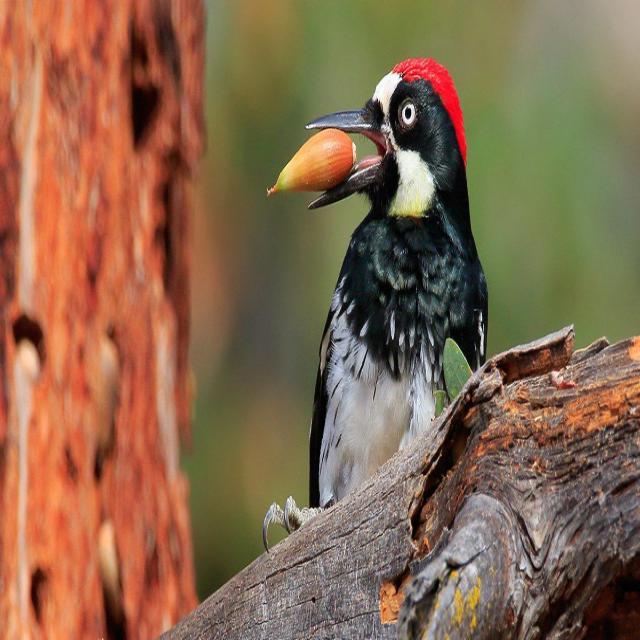Woodpecker: (261, 45, 489, 508)
